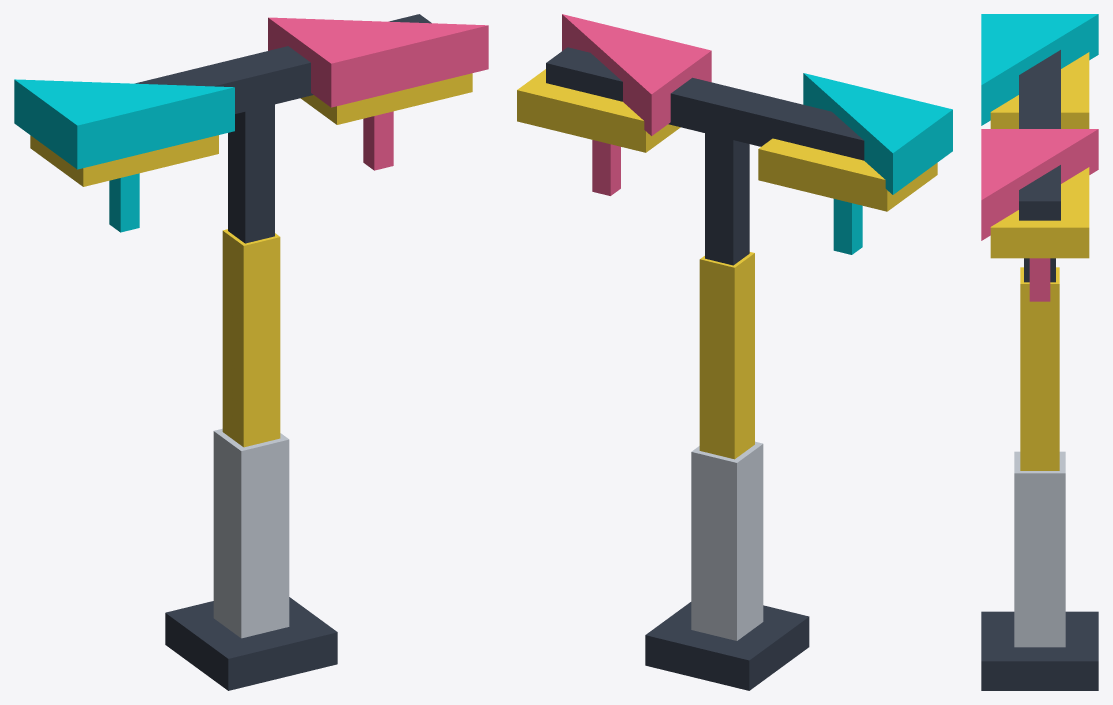
The model's file is Lamp_Block.fbx.
The picture shows the model from 3 angles, left to right: view 1: azimuth 30°, elevation 25°; view 2: azimuth 150°, elevation 25°; view 3: azimuth 270°, elevation 25°; orthographic projection. The views are drawn at different scales.
Visible parts, largest first — view 1: Lamp_Block; view 2: Lamp_Block; view 3: Lamp_Block.
Part boxes in pixels (x1=…): Lamp_Block: x1=14, y1=14, x2=488, y2=690; Lamp_Block: x1=517, y1=14, x2=952, y2=690; Lamp_Block: x1=981, y1=14, x2=1098, y2=690.
Bounding box in the file's own units: 470 × 658 × 125.
